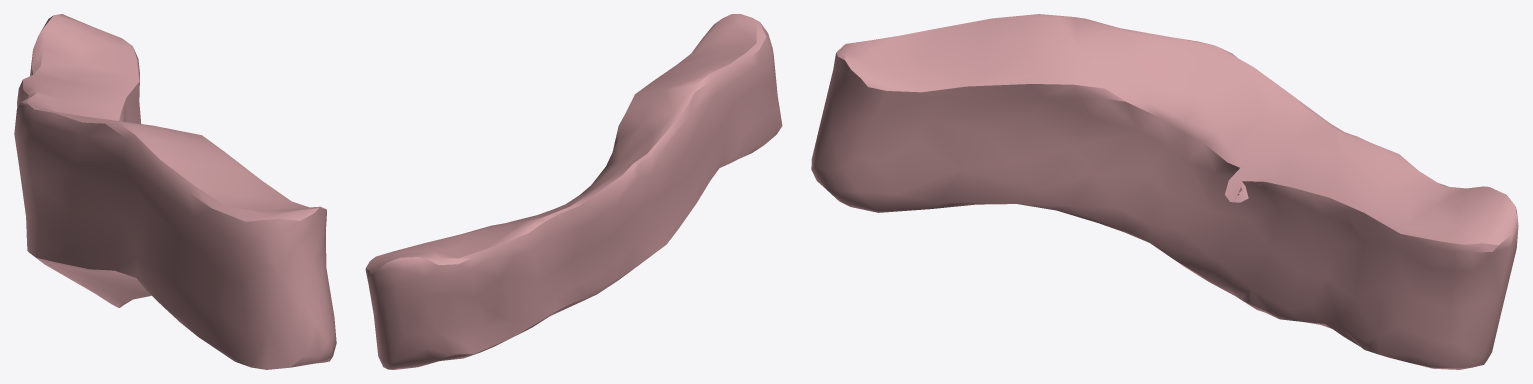
File: fma275375-f_mm3367.glb
3 views of the same model, side by side, from view 1: azimuth 30°, elevation 25°; view 2: azimuth 150°, elevation 25°; view 3: azimuth 270°, elevation 25° (orthographic). The views are drawn at different scales.
Visible parts, largest first — view 1: FMA275375-F_MM3367; view 2: FMA275375-F_MM3367; view 3: FMA275375-F_MM3367.
Boxes of the visible parts, x1,y1,x2,y2 form: FMA275375-F_MM3367: (14,14,336,369); FMA275375-F_MM3367: (365,14,782,369); FMA275375-F_MM3367: (811,14,1518,369).
Bounding box in the file's own units: 0.00889 × 0.00951 × 0.0234.
